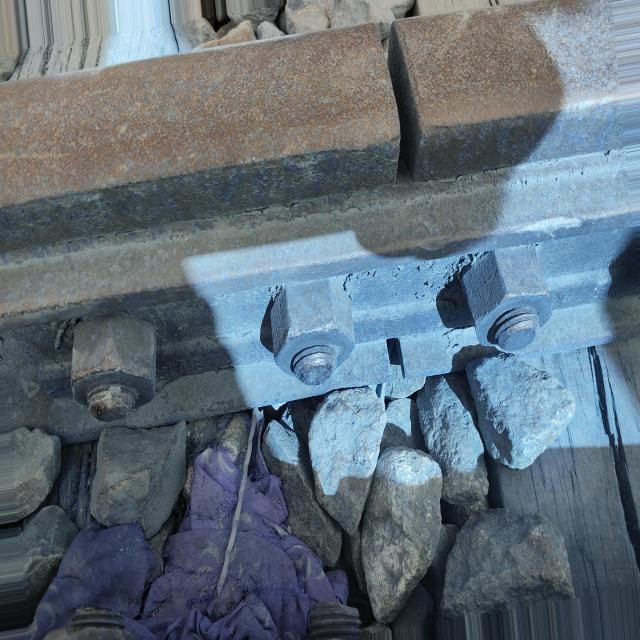crack: (349, 5, 456, 215)
